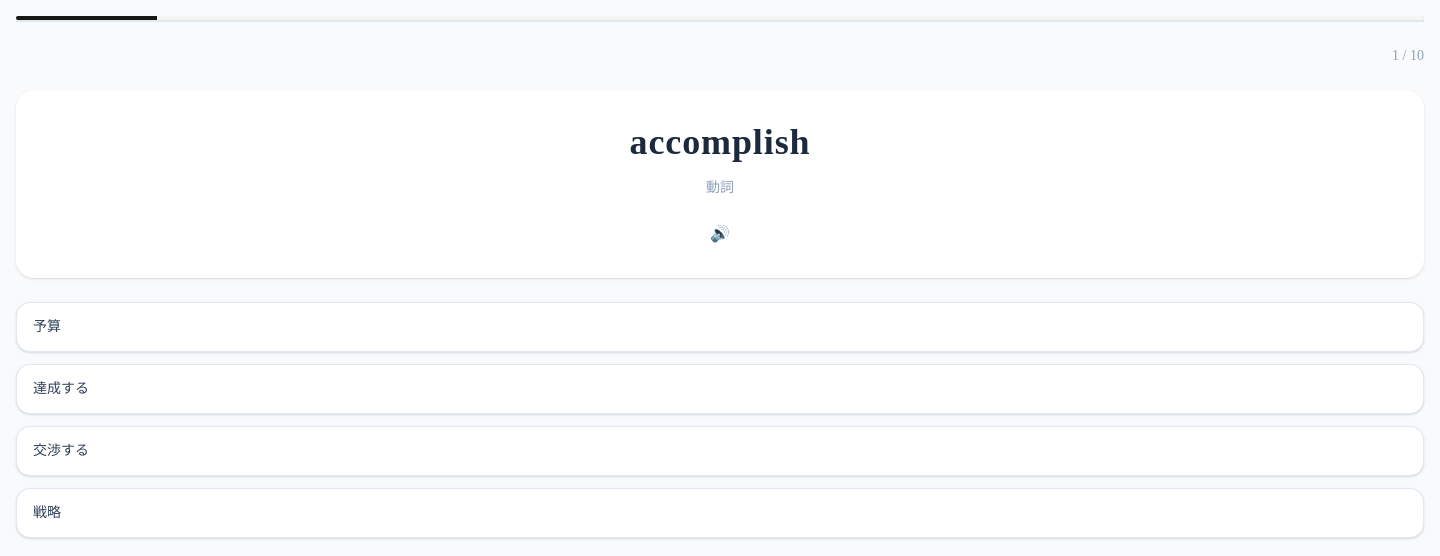
QuizCard › C-06: 回答後は他の選択肢ボタンが disabled になる
Click the button "予算" at (47, 326), box [16,302,1424,352]
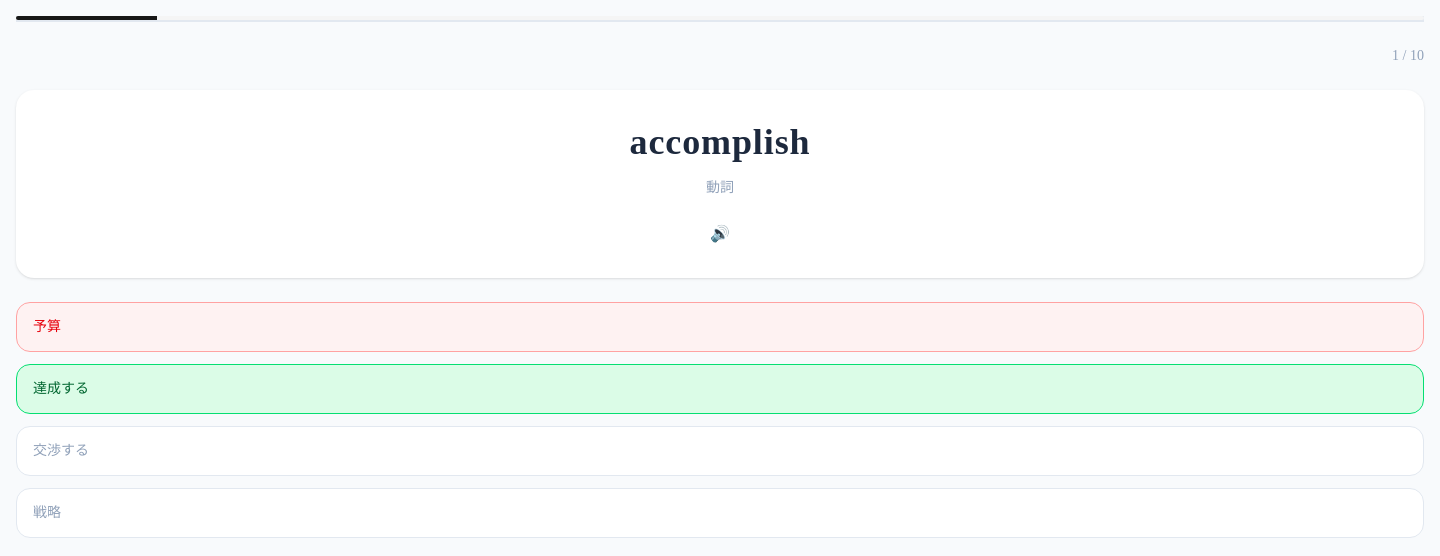
expect the button "予算" is disabled: met, box [16,302,1424,352]
expect the button "達成する" is disabled: met, box [16,364,1424,414]
expect the button "交渉する" is disabled: met, box [16,426,1424,476]
